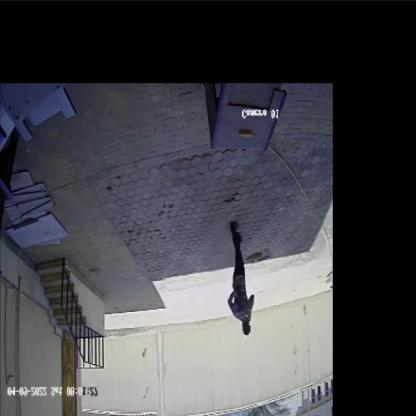handgun: (233, 279, 244, 318)
